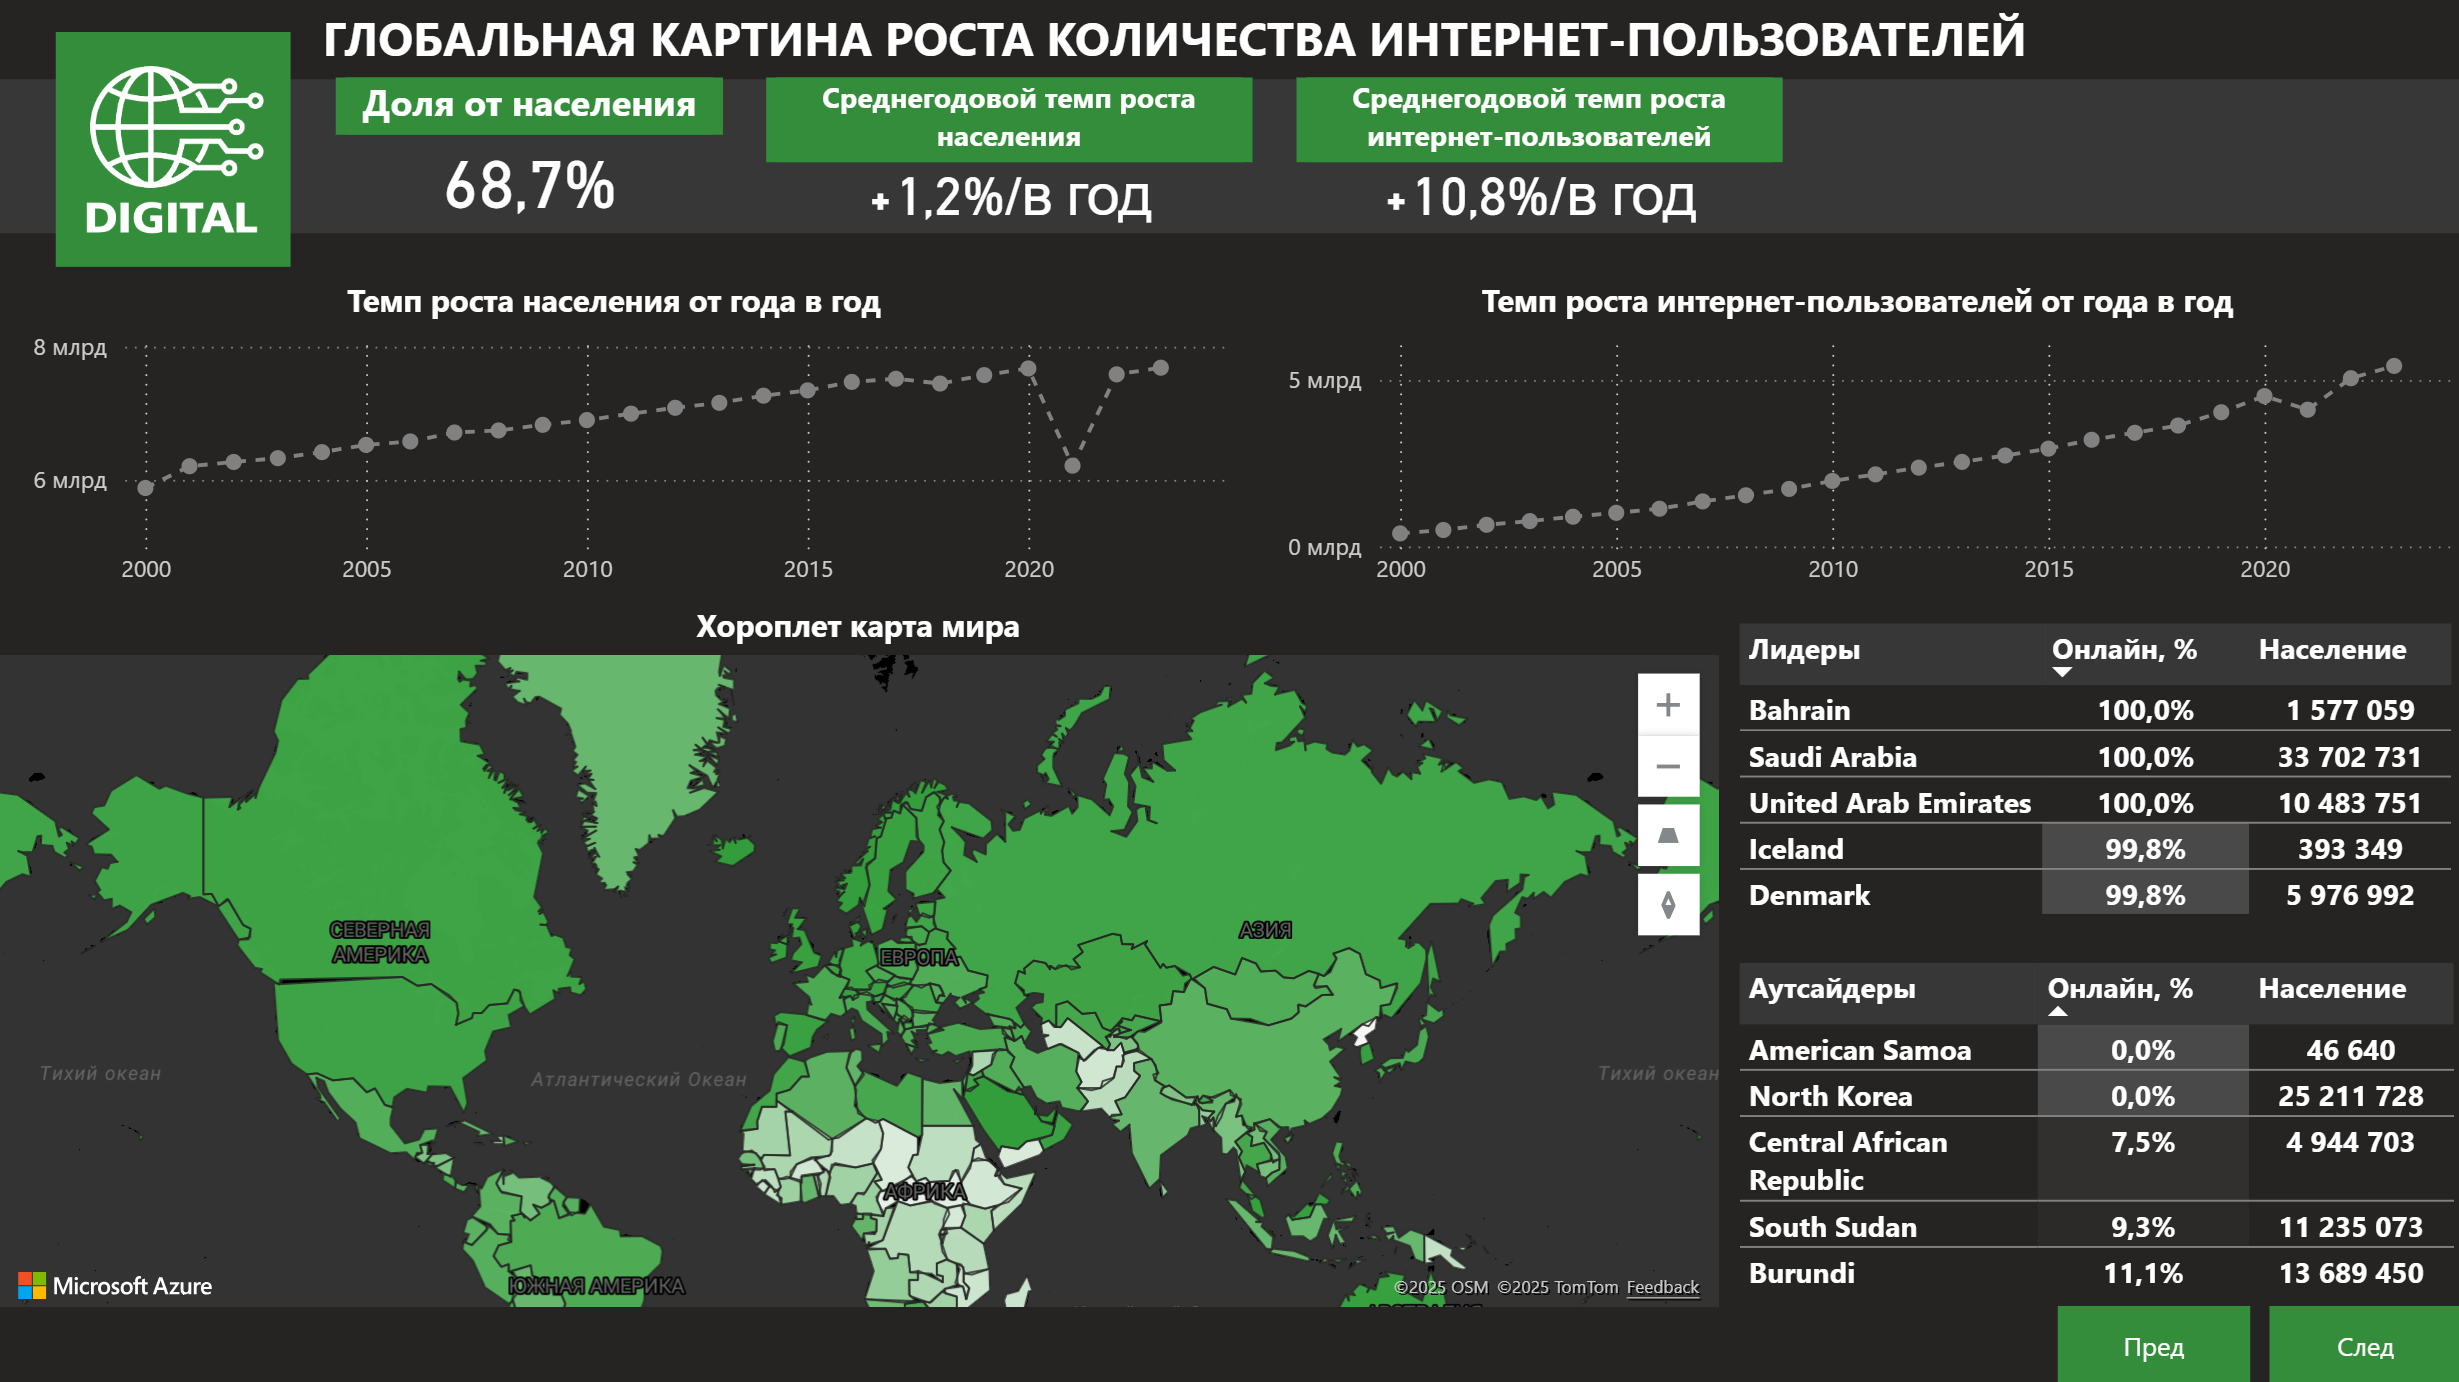

The page's visual inventory and layout, read from the dashboard file:
{"tool":"powerbi","page":{"name":"global","canvas":[1280,720],"ordinal":1},"visuals":[{"type":"textbox","title":"шапка","box":[163.3,0,1116.7,63.3],"z":0,"group":"g1"},{"type":"shape","box":[30,18.4,122,122],"z":0,"group":"g2"},{"type":"azureMap","title":"Хороплет карта мира","fields":{"Category":["regions.Country Name"]},"box":[0,314.8,893.8,365],"z":500,"group":"g3"},{"type":"image","box":[36.1,24.4,110.1,109.6],"z":1000,"group":"g2"},{"type":"shape","box":[0,42.4,1280,80],"z":1000,"group":"g1"},{"type":"lineChart","title":"Темп роста населения от года в год","fields":{"Category":["data.Year"],"Y":["calculations_global.global_population"]},"box":[0,146,640,178.5],"z":1000,"group":"g3"},{"type":"group","id":"g1","title":"header","box":[0,0,1280,140.4],"z":1500},{"type":"group","id":"g2","title":"лого","box":[30,18.4,122,122],"z":1500,"group":"g1"},{"type":"group","id":"g3","title":"визуал","box":[0,146,1280,538.4],"z":2000},{"type":"lineChart","title":"Темп роста интернет-пользователей от года в год","fields":{"Category":["data.Year"],"Y":["calculations_global.connected_people"]},"box":[651.6,146,628.4,178.5],"z":2000,"group":"g3"},{"type":"tableEx","title":"лидер","fields":{"Values":["regions.Country Name","calculations.percent_connected","calculations_global.global_population"]},"box":[903.5,324.7,376,158.8],"z":2500,"group":"g3"},{"type":"tableEx","title":"аутсайдер","fields":{"Values":["regions.Country Name","calculations.percent_connected","calculations_global.global_population"]},"box":[904,501.7,376,182.7],"z":3000,"group":"g3"},{"type":"group","id":"g4","title":"nav","box":[1070,680,210,40],"z":3000},{"type":"group","id":"g5","title":"kpi","box":[175.6,42,751.8,80.8],"z":4000},{"type":"actionButton","title":"след","box":[1180,680,100,40],"z":4000,"group":"g4"},{"type":"actionButton","title":"пред","box":[1070,680,100,40],"z":5000,"group":"g4"},{"type":"card","title":"Среднегодовой темп роста интернет-пользователей","fields":{"Values":["calculations.growth_rate_CAGR"]},"box":[675,42,252.3,80.6],"z":7000,"group":"g5"},{"type":"card","title":"Среднегодовой темп роста населения","fields":{"Values":["calculations.growth_rate_CAGR_pop"]},"box":[399,42.3,252.3,80.6],"z":7250,"group":"g5"},{"type":"card","title":"Доля от населения","fields":{"Values":["calculations.percent_connected"]},"box":[175.6,42.2,201.1,80],"z":7500,"group":"g5"}]}

Visuals, with their boxes in screenshot pixels (x1, y1, x2, y2), scaled from the page's 1280x720 canvas onto the 2459x1382 screenshot:
"шапка" textbox: [314, 0, 2458, 122]
shape: [58, 35, 292, 269]
"Хороплет карта мира" azureMap: [0, 604, 1717, 1305]
image: [69, 47, 281, 257]
shape: [0, 81, 2458, 235]
"Темп роста населения от года в год" lineChart: [0, 280, 1230, 623]
"header" group: [0, 0, 2458, 269]
"лого" group: [58, 35, 292, 269]
"визуал" group: [0, 280, 2458, 1314]
"Темп роста интернет-пользователей от года в год" lineChart: [1252, 280, 2458, 623]
"лидер" tableEx: [1736, 623, 2458, 928]
"аутсайдер" tableEx: [1737, 963, 2458, 1314]
"nav" group: [2056, 1305, 2458, 1381]
"kpi" group: [337, 81, 1782, 236]
"след" actionButton: [2267, 1305, 2458, 1381]
"пред" actionButton: [2056, 1305, 2248, 1381]
"Среднегодовой темп роста интернет-пользователей" card: [1297, 81, 1781, 235]
"Среднегодовой темп роста населения" card: [767, 81, 1251, 236]
"Доля от населения" card: [337, 81, 724, 235]
